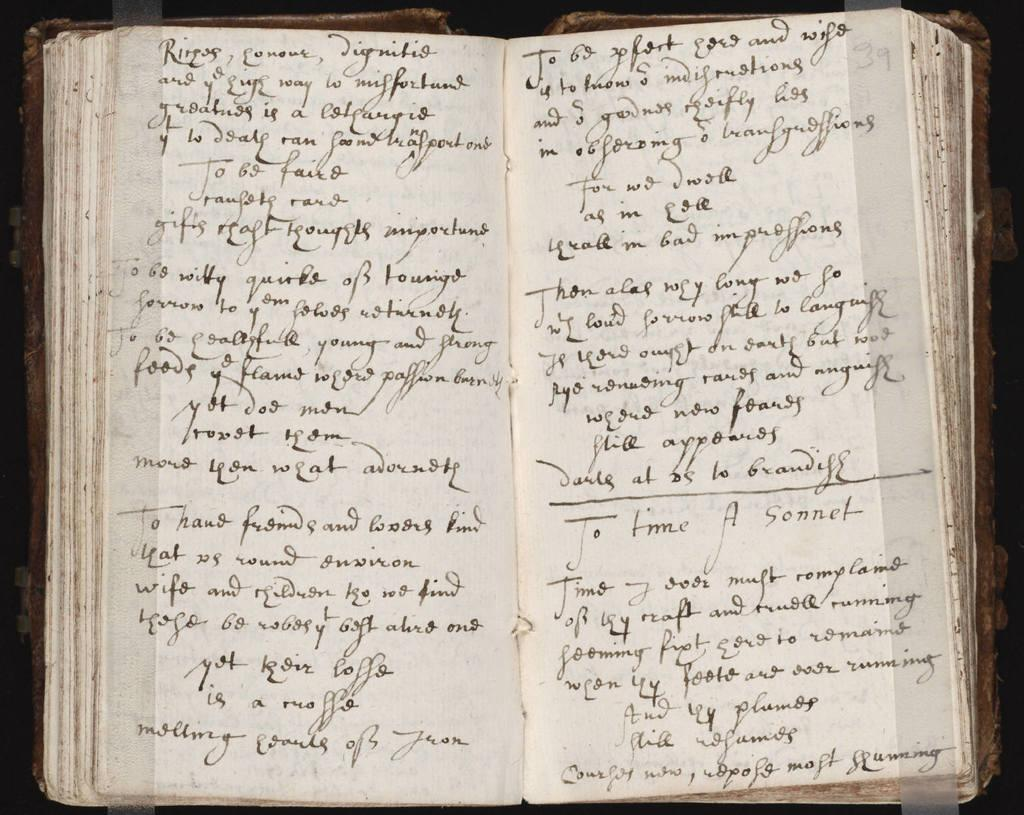book: (82, 0, 997, 810)
